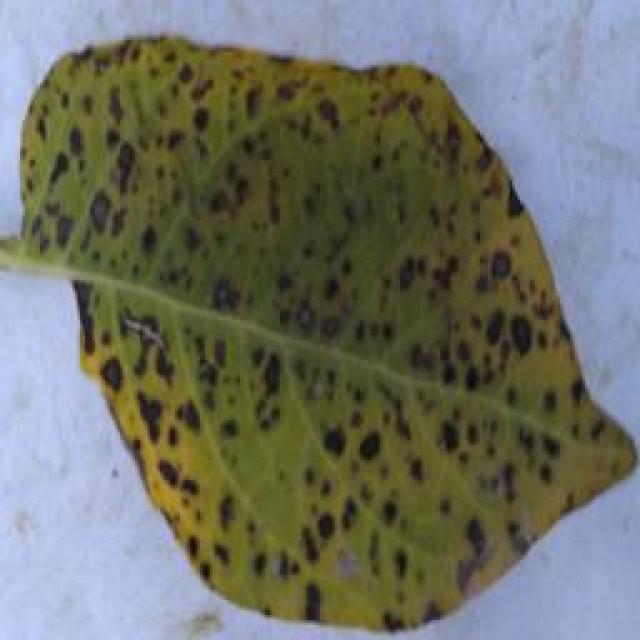Potato_Early_Blight: (18, 41, 640, 634)
